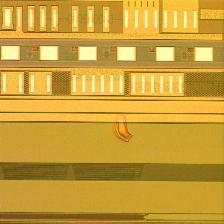PARTICLE: (111, 112, 138, 148)
